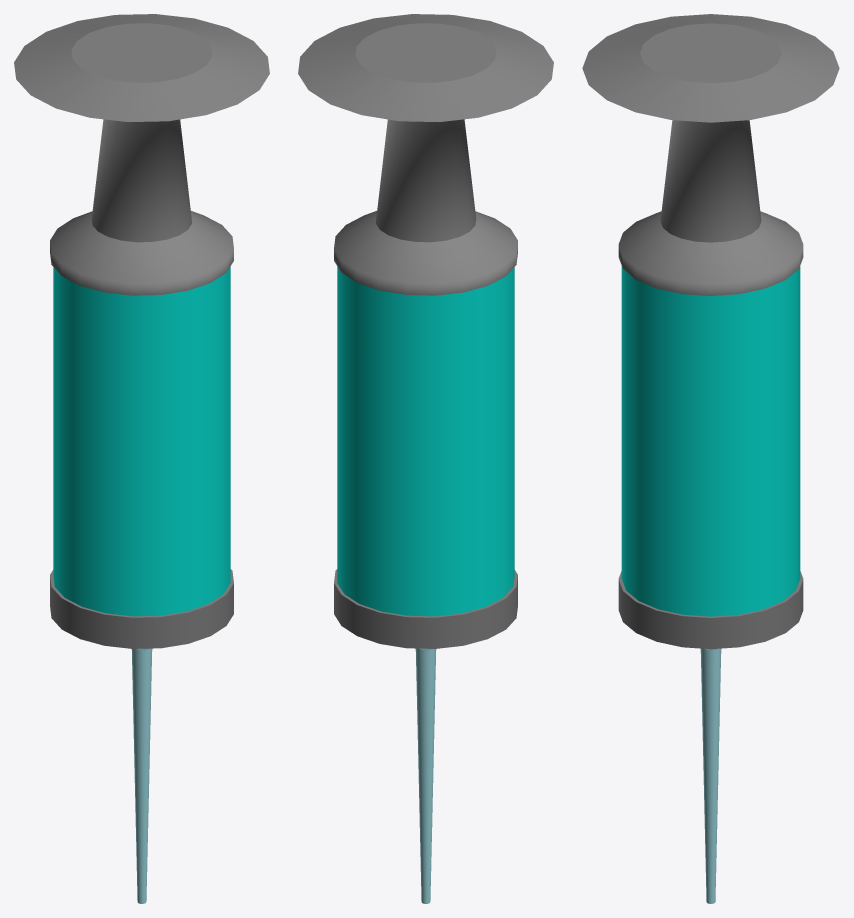
The model's file is PlayerMaxHPUp.fbx.
3 renders of one model, left to right at view 1: azimuth 30°, elevation 25°; view 2: azimuth 150°, elevation 25°; view 3: azimuth 270°, elevation 25°, orthographic.
Parts seen in each view (by area): view 1: pCylinder43; view 2: pCylinder43; view 3: pCylinder43.
Boxes of the visible parts, x1,y1,x2,y2 form: pCylinder43: (14, 14, 269, 903); pCylinder43: (298, 14, 553, 903); pCylinder43: (582, 14, 839, 903).
Bounding box in the file's own units: 2.78 × 10.13 × 2.78.
